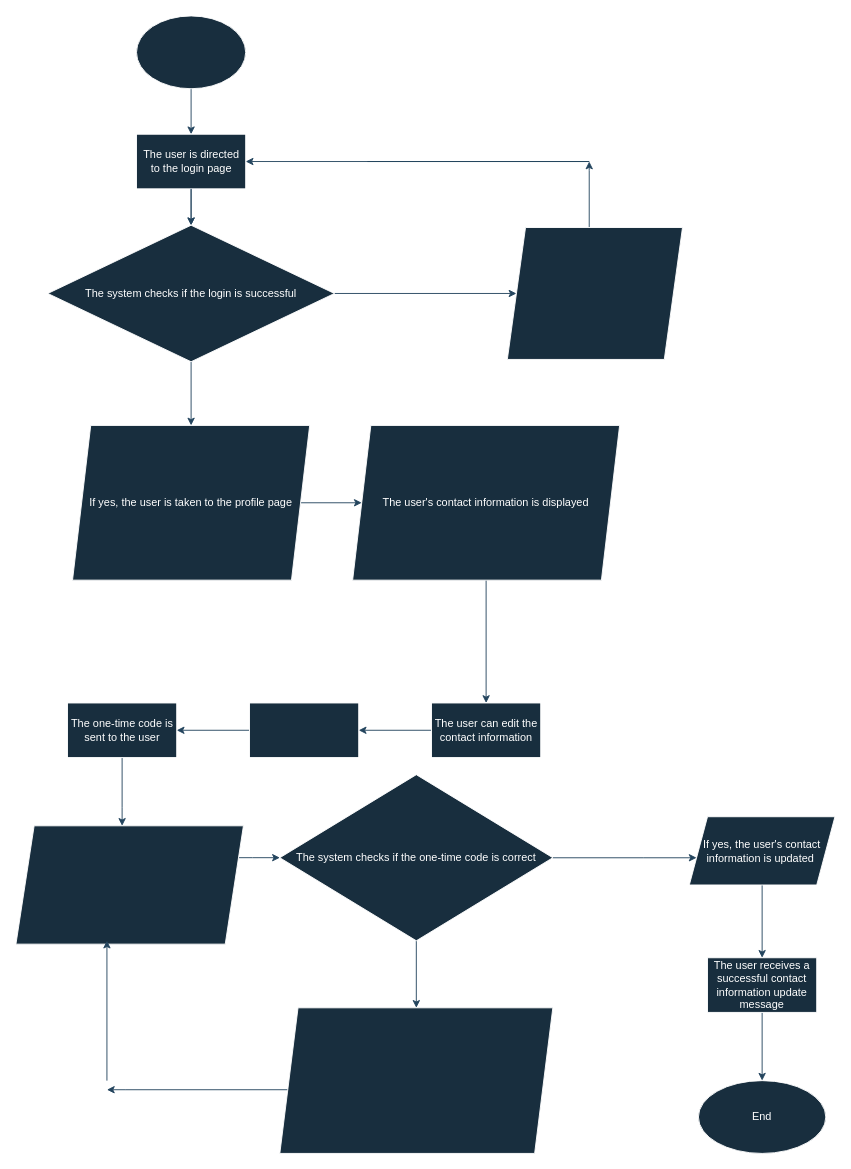
Image size: 851x1169. Some labels were removed from this diagram. The box of each missing label's shape, as (x1, y1, x2, y2) in pixels:
If no, the user is directed to the login page: (506, 227, 682, 359)
If no, the user is redirected to the one-time code verification page: (279, 1007, 553, 1153)
Start: (136, 15, 246, 89)
The new contact infromation is retrieved from the user: (249, 702, 359, 758)
The user is directed to the one-time code verification page: (15, 825, 243, 944)
